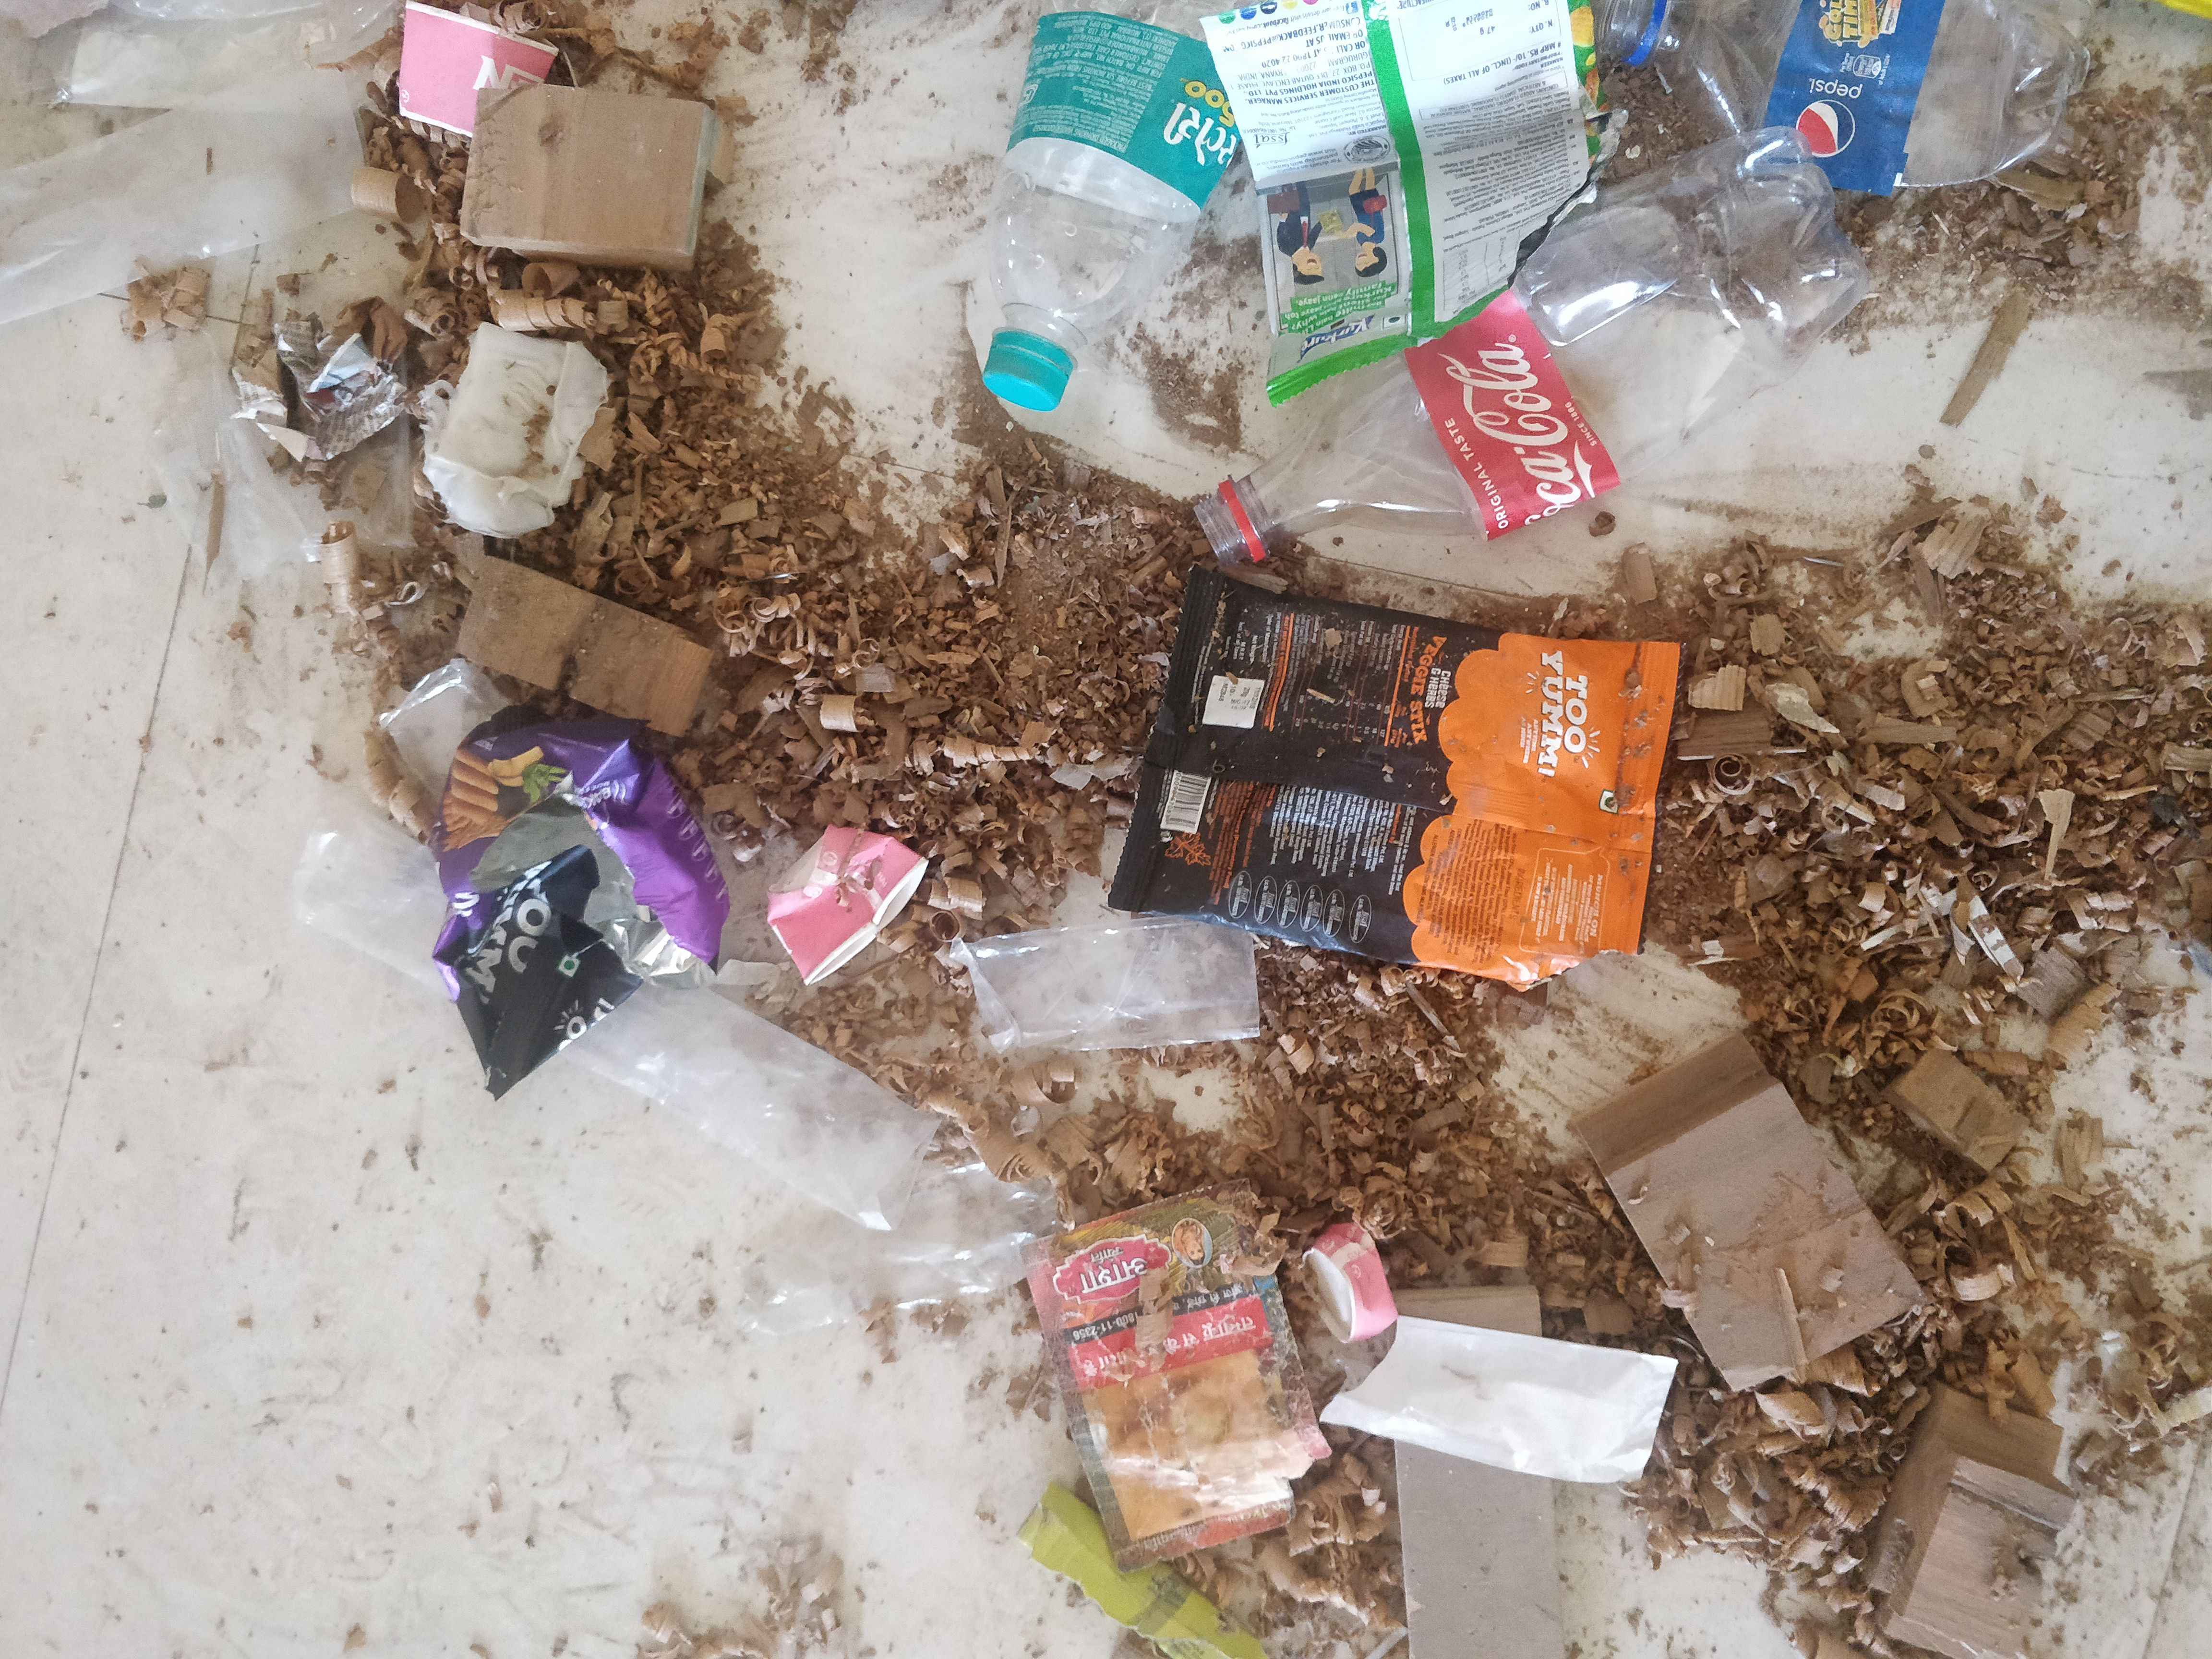Bisleri: (1137, 63, 1296, 153)
Coca-Cola: (1433, 293, 1622, 518)
pepsi: (1801, 35, 1883, 181)
tooyumm: (472, 809, 627, 1018), (1521, 636, 1606, 812)
